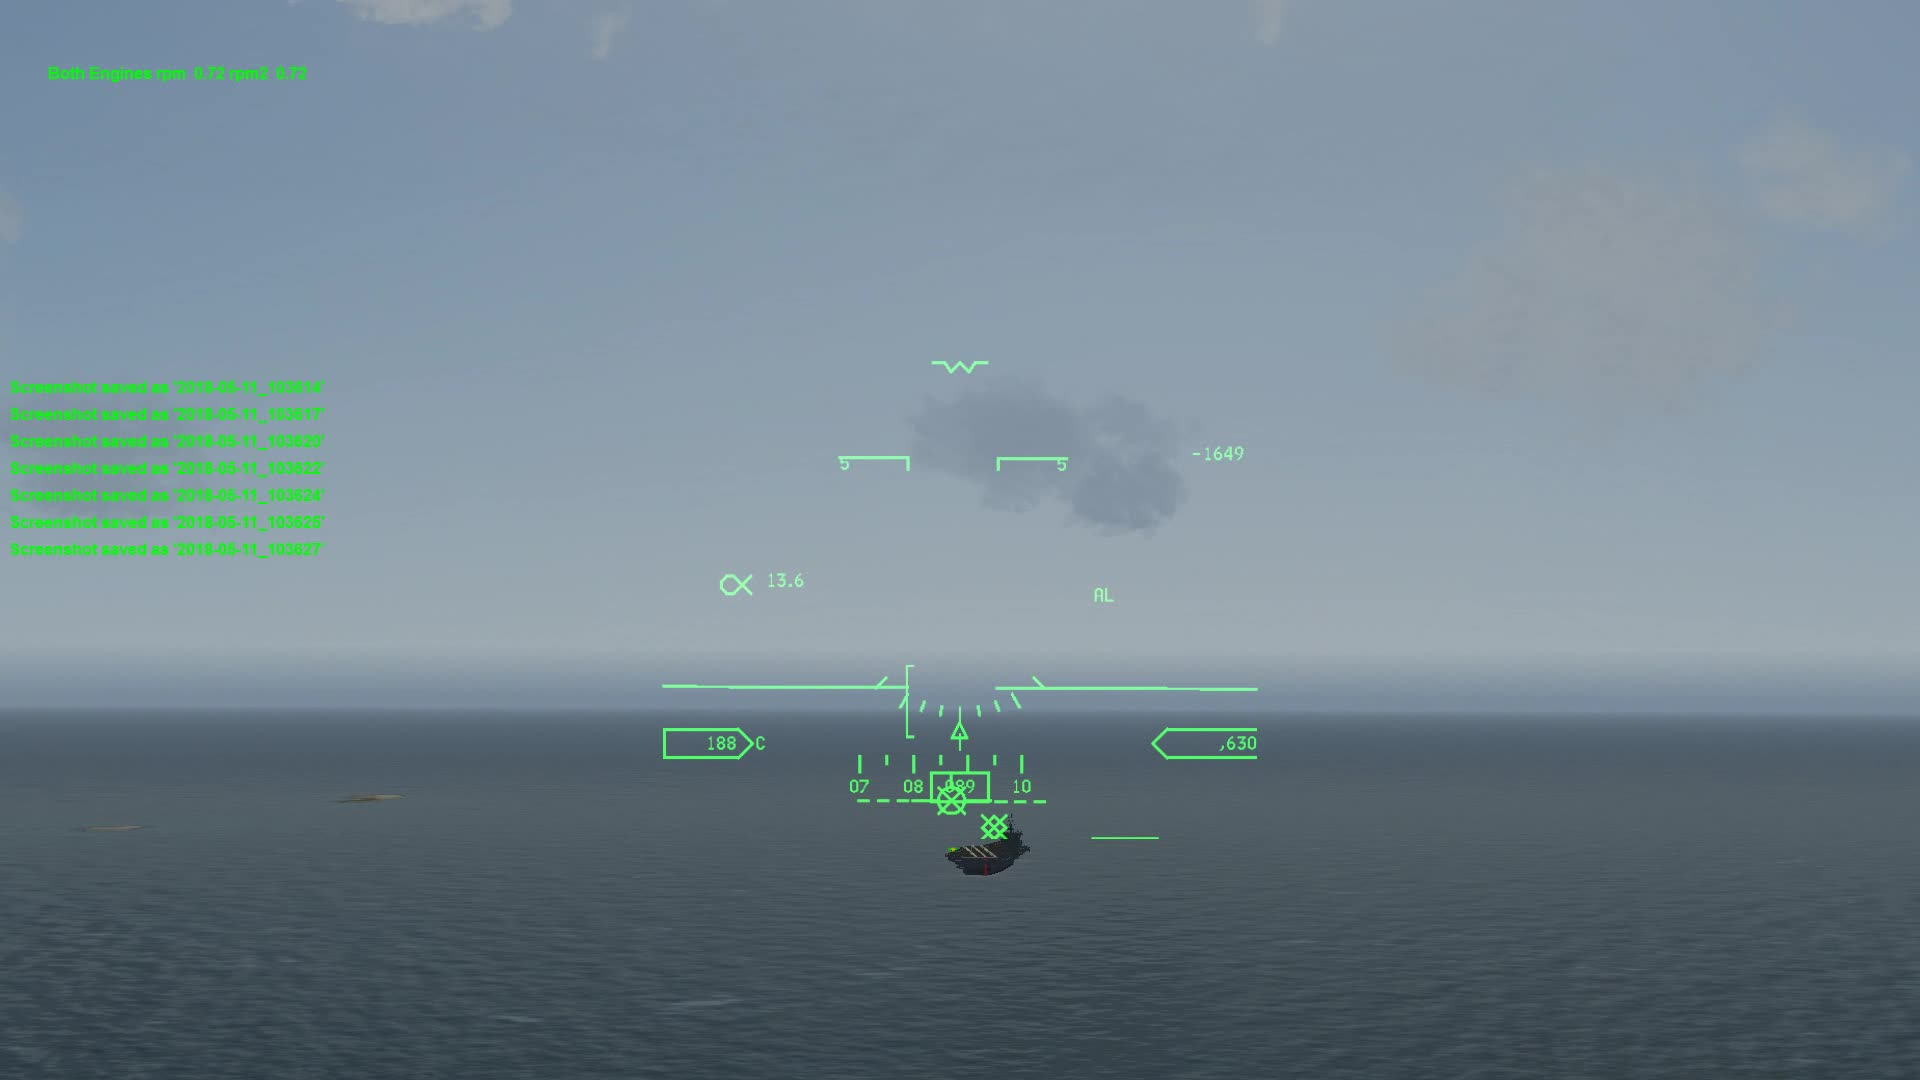speed vector: (934, 773, 996, 828)
